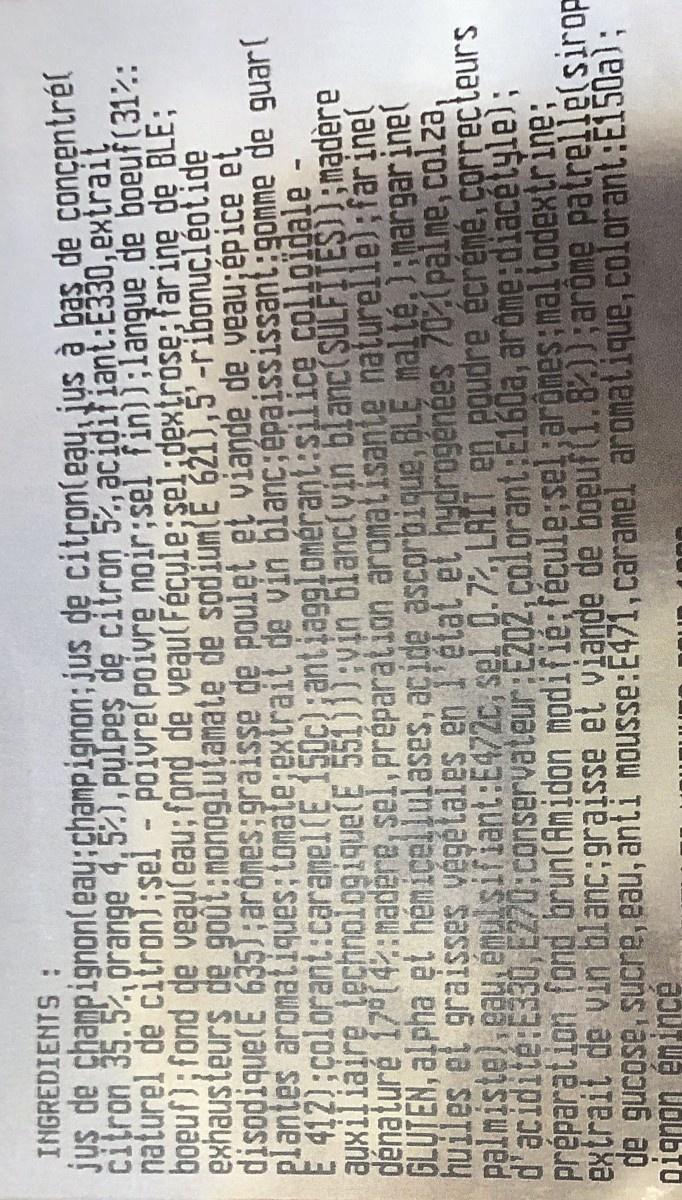ingredients: (5, 2, 682, 1186)
